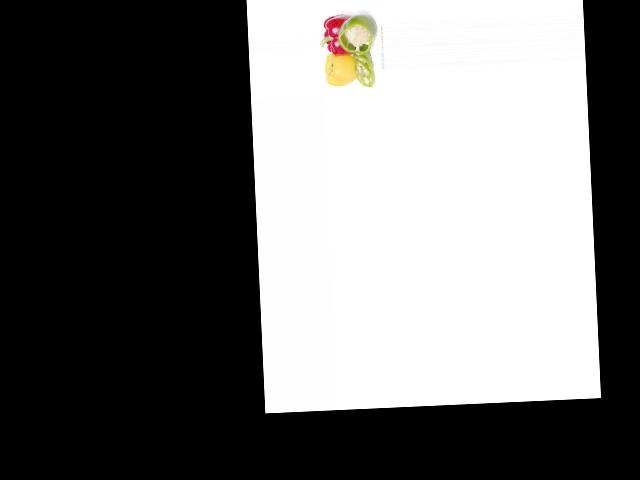bell_pepper: (336, 10, 375, 55)
